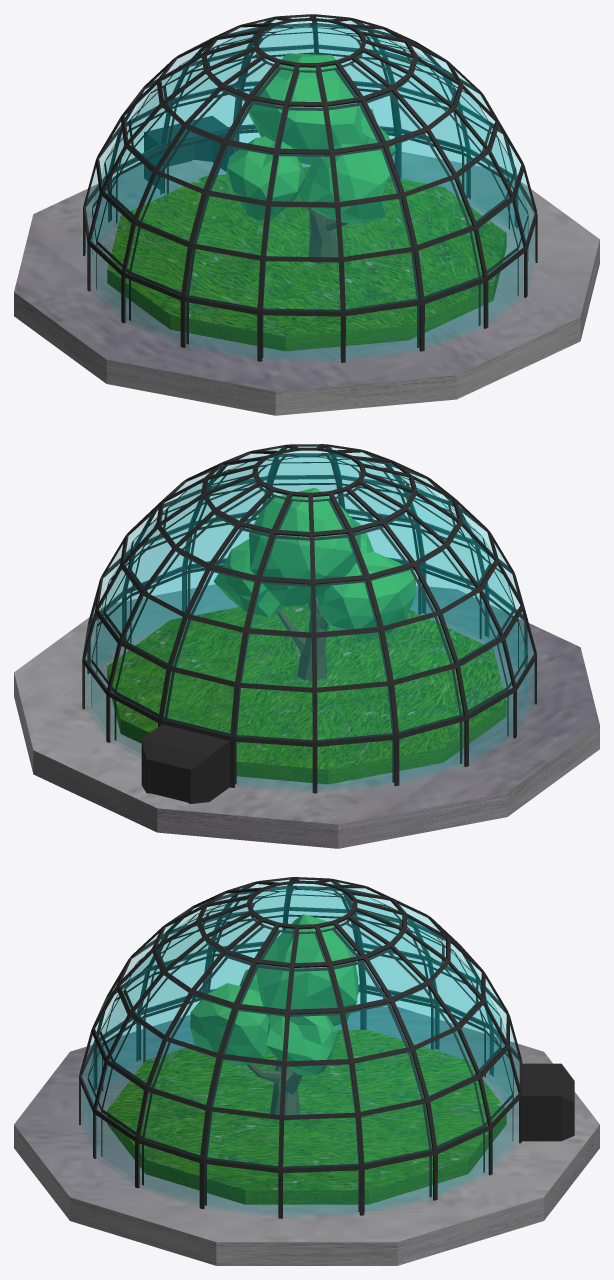
File: arbol.glb
The picture shows the model from 3 angles, top to bottom: view 1: azimuth 30°, elevation 25°; view 2: azimuth 150°, elevation 25°; view 3: azimuth 270°, elevation 25°; orthographic projection. The views are drawn at different scales.
Parts seen in each view (by area): view 1: Sphere.003, Piso, Piso cesped, Cylinder; view 2: Sphere.003, Piso, Piso cesped, Cylinder; view 3: Sphere.003, Piso, Piso cesped, Cylinder.
Part boxes in pixels (x1,y1,x2,y2): Sphere.003: (83,14,537,362); Piso: (14,152,599,415); Piso cesped: (107,167,506,351); Cylinder: (226,53,395,263); Sphere.003: (82,444,536,803); Piso: (14,584,599,848); Piso cesped: (107,602,506,784); Cylinder: (213,487,415,680); Sphere.003: (79,877,574,1218); Piso: (14,1006,599,1265); Piso cesped: (107,1030,506,1204); Cylinder: (190,914,358,1115).
Bounding box in the file's own units: 11.13 × 5.4 × 11.7.
Materials: 6 (2 with a texture image).
